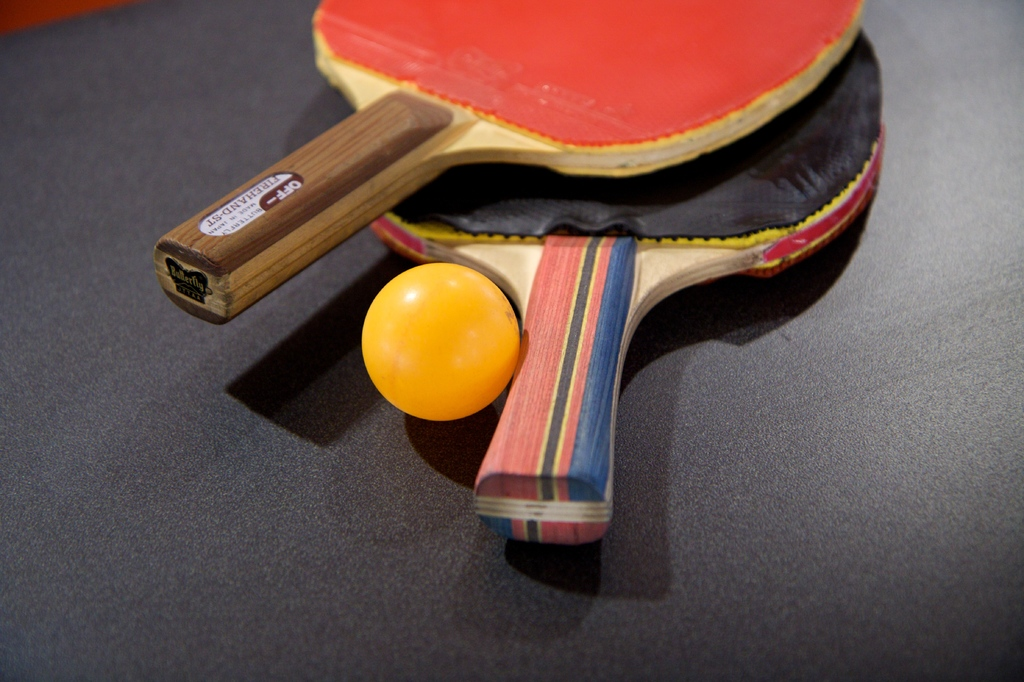Ball: (364, 264, 520, 421)
